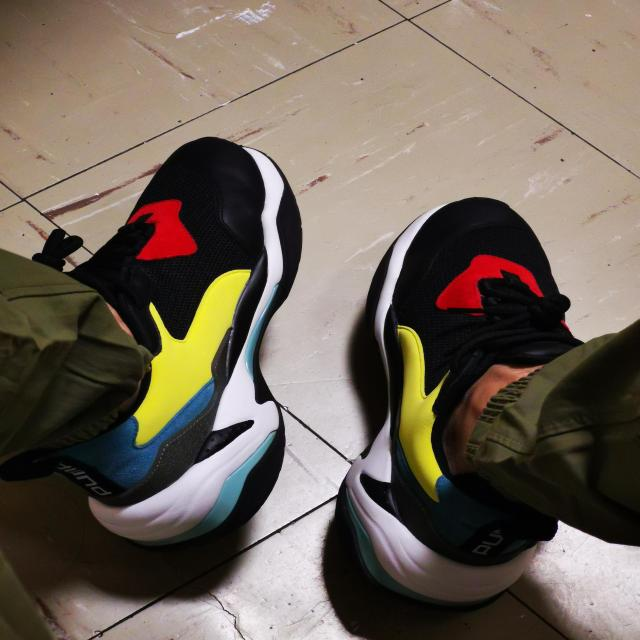shoes: (324, 165, 632, 638), (41, 130, 307, 623)
